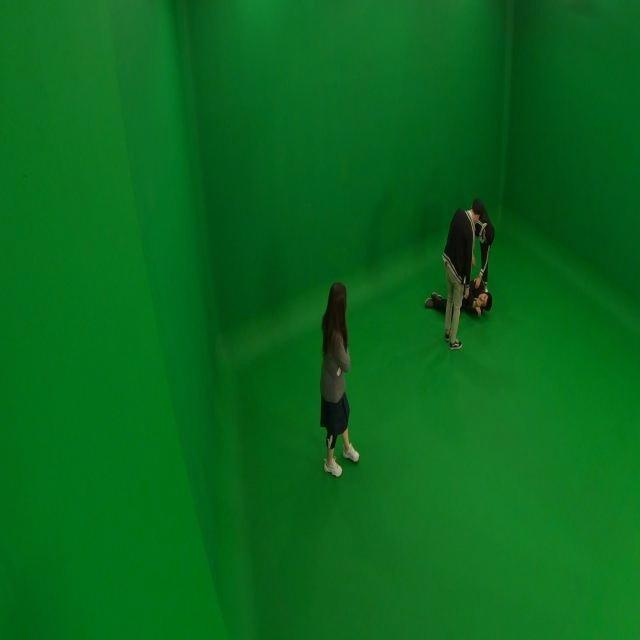fight: (420, 210, 495, 316), (439, 196, 488, 351)
non-fight: (317, 280, 363, 477)
